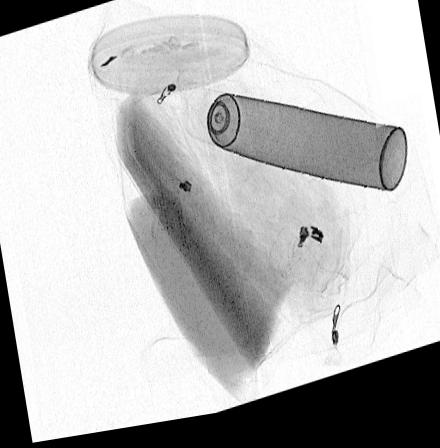Sprayer: (181, 91, 409, 206)
